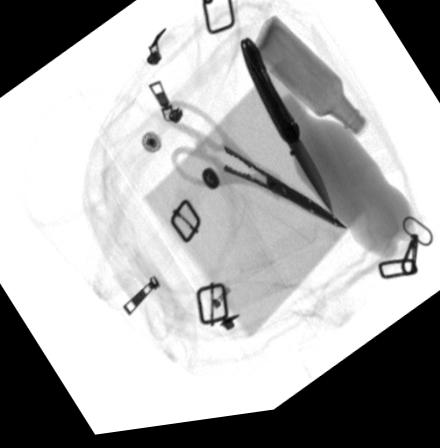Knife: (239, 43, 330, 224)
Scissors: (160, 104, 347, 238)
